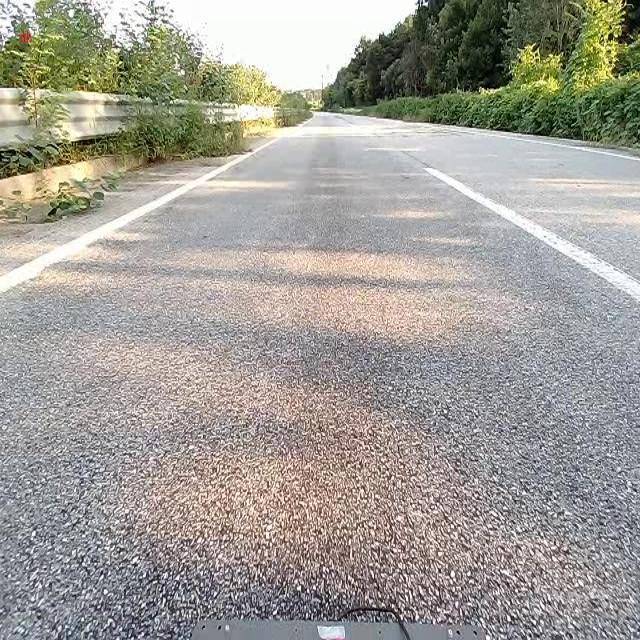Lane: (0, 130, 282, 300), (0, 140, 276, 294), (420, 162, 640, 300), (424, 165, 639, 302)
